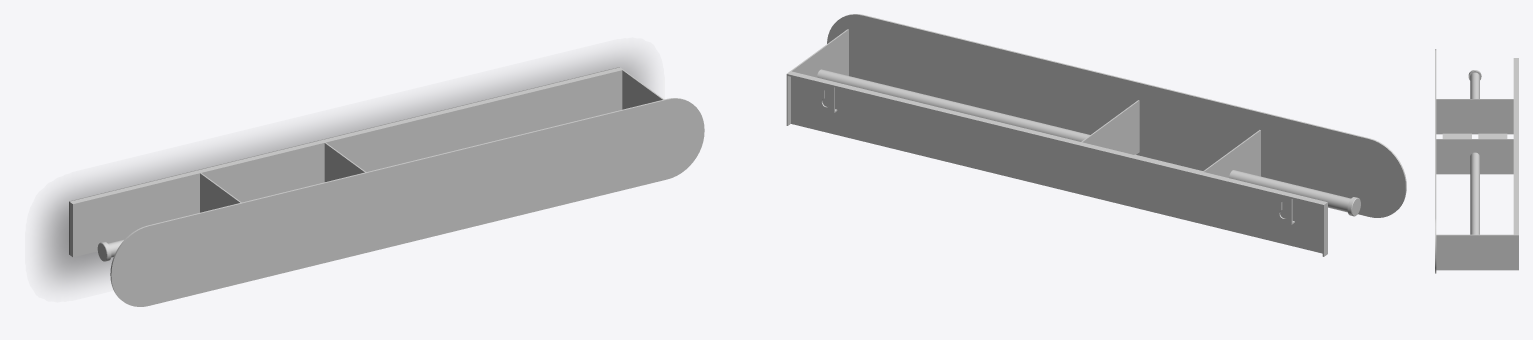
Rendered from round-trio.608c771025.ar.glb.
3 renders of one model, left to right at view 1: azimuth 30°, elevation 25°; view 2: azimuth 150°, elevation 25°; view 3: azimuth 270°, elevation 25°, orthographic. The views are drawn at different scales.
Visible parts, largest first — view 1: NAUO1, object 2; view 2: NAUO1; view 3: NAUO1.
Boxes of the visible parts, <box> form: NAUO1: <box>69,67,704,306</box>; object 2: <box>41,56,647,283</box>; NAUO1: <box>786,14,1406,256</box>; NAUO1: <box>1435,49,1518,273</box>.
Size of the model in its own units: 0.78 by 0.17 by 0.13.
Materials: 2 (1 with a texture image).
